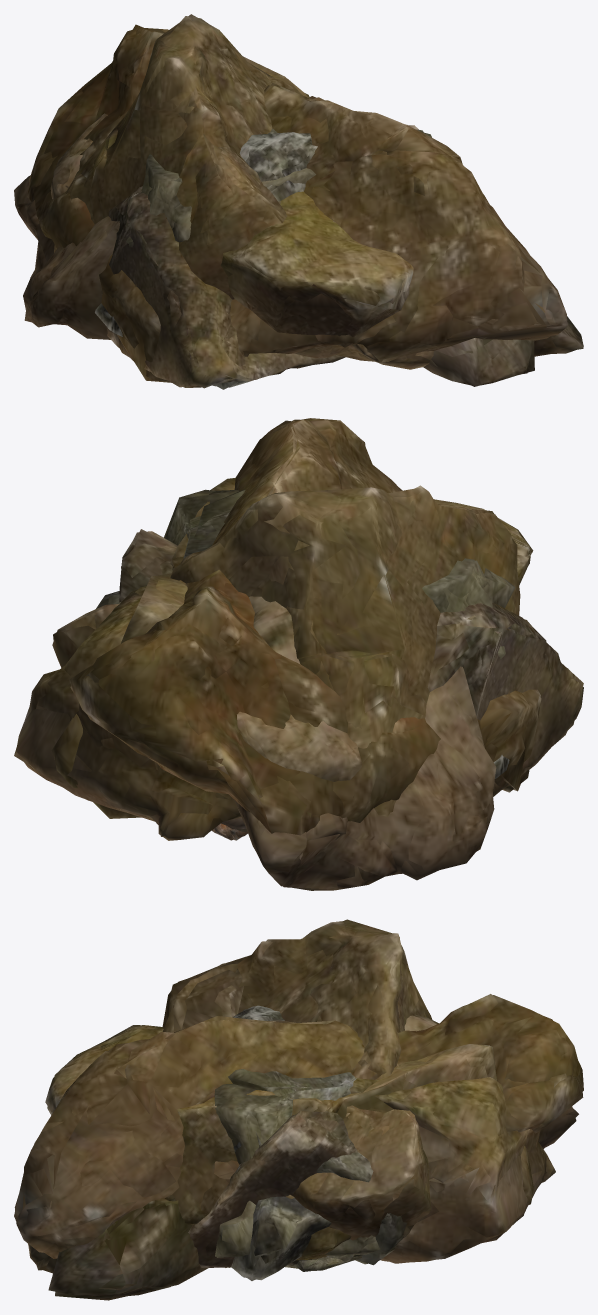
File: arcade-rocks.glb
3 views of the same model, one above another, from view 1: azimuth 30°, elevation 25°; view 2: azimuth 150°, elevation 25°; view 3: azimuth 270°, elevation 25° (orthographic). The views are drawn at different scales.
Visible parts, largest first — view 1: Boulder_0, Boulder_0_LOD, Boulder_3, Boulder_4, Boulder_3_LOD, Boulder_2, Boulder_1, Boulder_4_LOD, Boulder_1_LOD, Boulder_2_LOD, Stone_6, Stone_4 (+4 smaller); view 2: Boulder_0, Boulder_3, Boulder_3_LOD, Boulder_0_LOD, Boulder_1, Boulder_4, Boulder_2, Boulder_4_LOD, Boulder_1_LOD, Boulder_2_LOD, Stone_6, Boulder_5 (+2 smaller); view 3: Boulder_0, Boulder_3, Boulder_0_LOD, Boulder_3_LOD, Boulder_4, Boulder_1, Boulder_4_LOD, Boulder_5, Boulder_2, Boulder_5_LOD, Stone_6, Boulder_2_LOD (+7 smaller).
Boxes of the visible parts, <box> form: Boulder_0: <box>27,28,566,381</box>; Boulder_0_LOD: <box>33,24,568,382</box>; Boulder_3: <box>54,16,324,299</box>; Boulder_4: <box>51,114,413,358</box>; Boulder_3_LOD: <box>54,14,315,284</box>; Boulder_2: <box>106,186,343,388</box>; Boulder_1: <box>14,175,583,386</box>; Boulder_4_LOD: <box>50,93,409,358</box>; Boulder_1_LOD: <box>17,205,583,386</box>; Boulder_2_LOD: <box>107,125,418,387</box>; Stone_6: <box>126,132,431,243</box>; Stone_4: <box>245,132,314,201</box>; Boulder_0: <box>69,418,540,835</box>; Boulder_3: <box>52,485,520,816</box>; Boulder_3_LOD: <box>53,487,517,812</box>; Boulder_0_LOD: <box>70,419,541,831</box>; Boulder_1: <box>234,596,496,890</box>; Boulder_4: <box>16,499,530,840</box>; Boulder_2: <box>119,531,583,829</box>; Boulder_4_LOD: <box>14,518,533,836</box>; Boulder_1_LOD: <box>242,630,493,889</box>; Boulder_2_LOD: <box>121,529,583,831</box>; Stone_6: <box>164,489,515,656</box>; Boulder_5: <box>53,486,234,818</box>; Boulder_0: <box>14,994,583,1252</box>; Boulder_3: <box>162,921,432,1238</box>; Boulder_0_LOD: <box>14,995,583,1258</box>; Boulder_3_LOD: <box>162,919,431,1240</box>; Boulder_4: <box>45,1025,553,1262</box>; Boulder_1: <box>28,1014,576,1296</box>; Boulder_4_LOD: <box>47,1025,555,1263</box>; Boulder_5: <box>172,1044,533,1259</box>; Boulder_2: <box>189,1111,353,1267</box>; Boulder_5_LOD: <box>177,1045,528,1260</box>; Stone_6: <box>215,1069,355,1256</box>; Boulder_2_LOD: <box>188,1111,358,1267</box>.
Size of the model in its own units: 2.67 by 1.78 by 3.37.
Materials: 3 (3 with a texture image).
